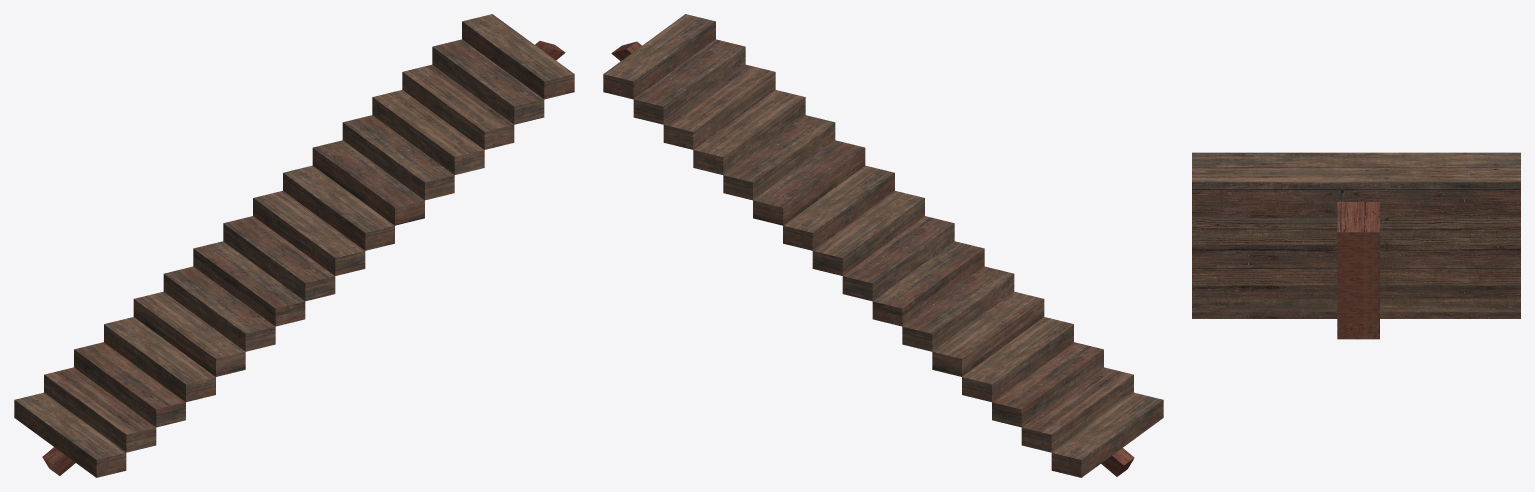
Rendered from BuildingLargeStairs01.glb.
3 views of the same model, side by side, from view 1: azimuth 30°, elevation 25°; view 2: azimuth 150°, elevation 25°; view 3: azimuth 270°, elevation 25° (orthographic). The views are drawn at different scales.
Visible parts, largest first — view 1: xiutz_building_large_stairs__0; view 2: xiutz_building_large_stairs__0; view 3: xiutz_building_large_stairs__0.
Part boxes in pixels (x1,y1,x2,y2): xiutz_building_large_stairs__0: (14, 14, 574, 477); xiutz_building_large_stairs__0: (603, 14, 1163, 477); xiutz_building_large_stairs__0: (1192, 152, 1520, 339).
Bounding box in the file's own units: 8.53 × 4.96 × 2.37.
2 materials, 2 textured.
